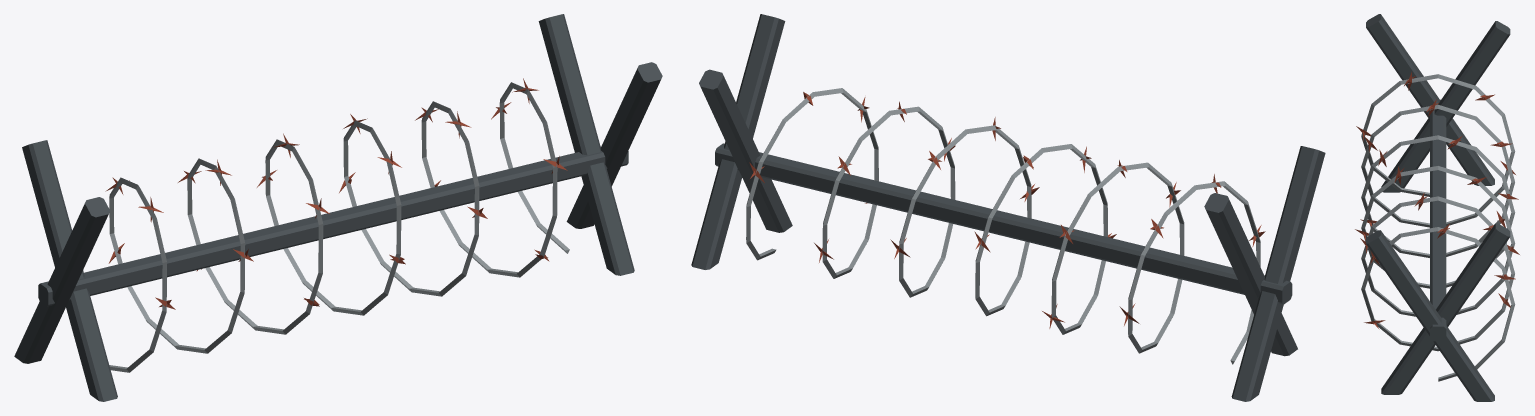
Rendered from barbed-wire-fence-section-a01906.glb.
3 renders of one model, left to right at view 1: azimuth 30°, elevation 25°; view 2: azimuth 150°, elevation 25°; view 3: azimuth 270°, elevation 25°, orthographic. The views are drawn at different scales.
Parts seen in each view (by area): view 1: barbed-wire-obstacle; view 2: barbed-wire-obstacle; view 3: barbed-wire-obstacle.
Boxes of the visible parts, box(x1,y1,x2,y2) form: barbed-wire-obstacle: box(14, 14, 662, 401); barbed-wire-obstacle: box(691, 14, 1325, 401); barbed-wire-obstacle: box(1355, 14, 1519, 401).
Size of the model in its own units: 3.97 by 1.35 by 1.23.
